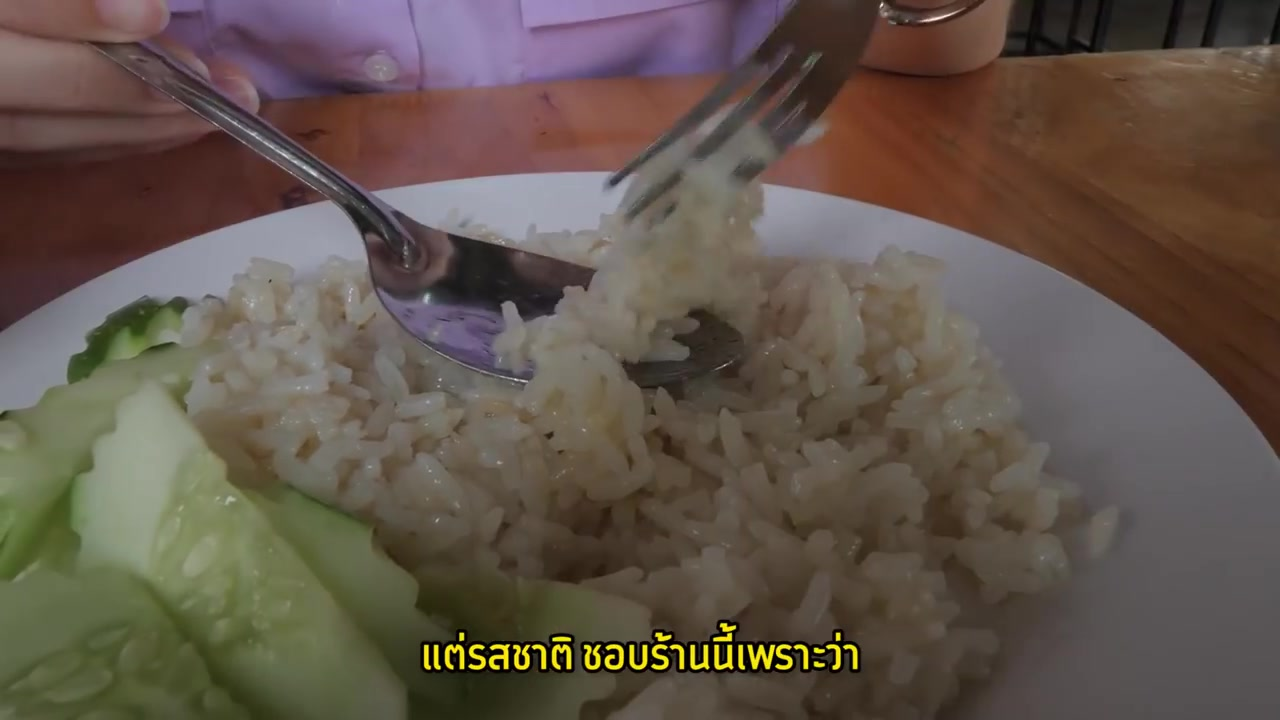text-label: (415, 618, 865, 678)
